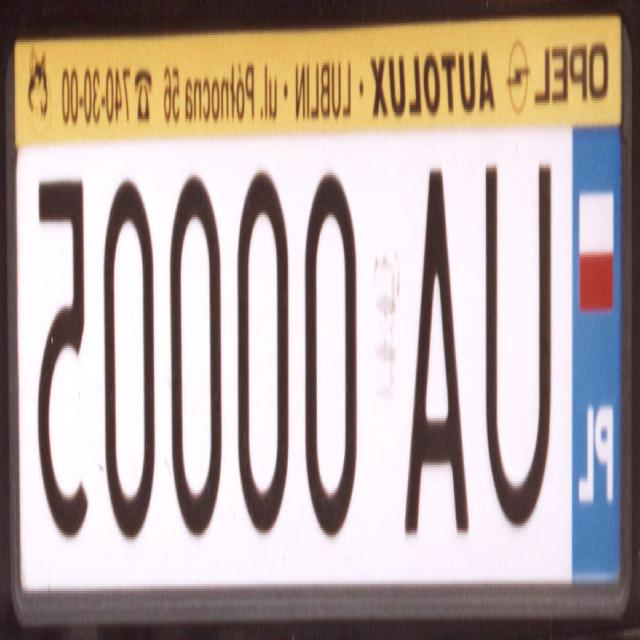pl_license_plate: (17, 126, 622, 589)
